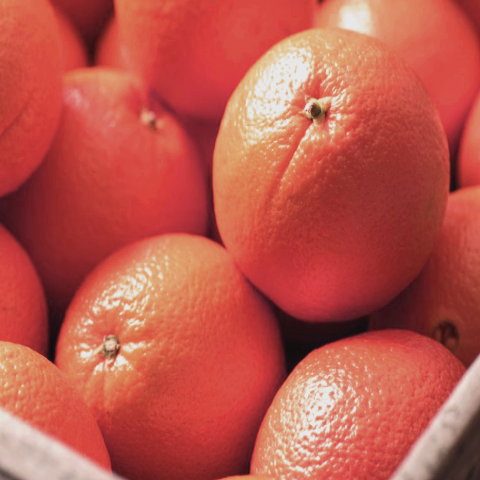orange: (198, 1, 458, 334), (39, 205, 297, 480)
